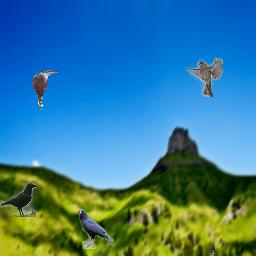Crow: (78, 209, 114, 249), (0, 183, 37, 217)
Cuckoo: (32, 70, 59, 110)
Sparrow: (184, 57, 223, 97)
Swallow: (209, 245, 221, 255)
